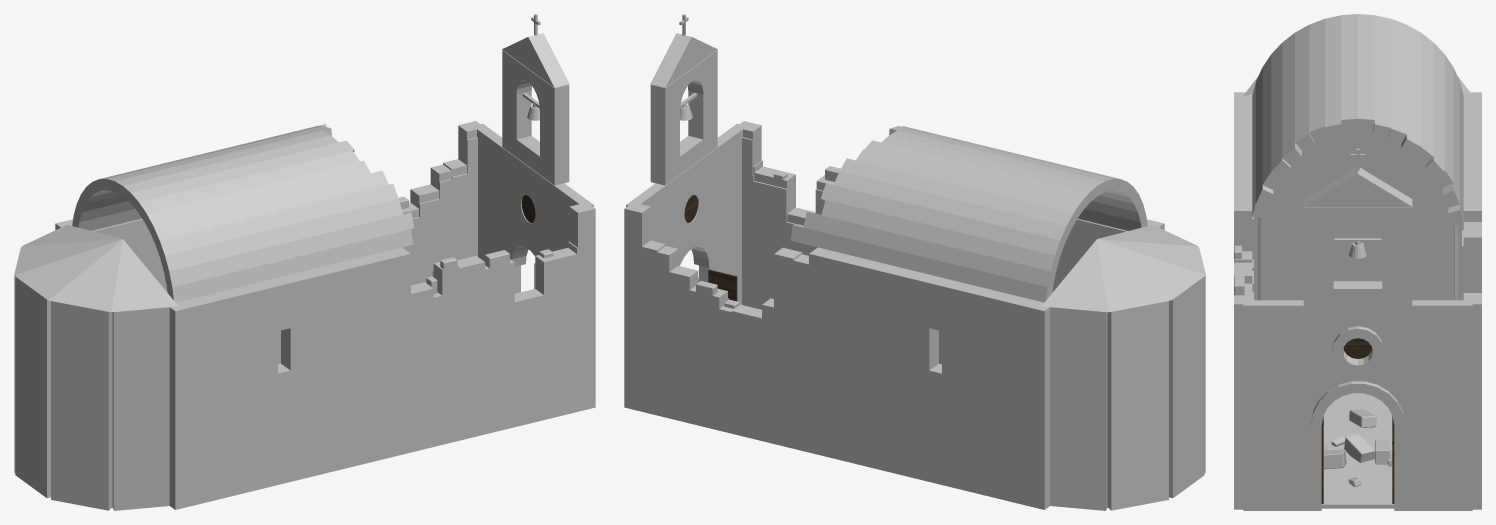
File: chapel.gltf
3 renders of one model, left to right at view 1: azimuth 30°, elevation 25°; view 2: azimuth 150°, elevation 25°; view 3: azimuth 270°, elevation 25°, orthographic. The views are drawn at different scales.
Parts seen in each view (by area): view 1: chapel_side_-1_A_wall2, chapel_side_-1_A_wall0, chapel_apse_wall3, chapel_apse_wall4, chapel_apse_cap, chapel_apse_wall2, chapel_espadana_body, chapel_side_-1_B_wall4, chapel_side_-1_B_wall3, chapel_east_wall2, chapel_side_-1_C_wall0, chapel_side_-1_B_wall5 (+29 smaller); view 2: chapel_side_1_A_wall2, chapel_side_1_A_wall0, chapel_apse_wall1, chapel_apse_wall0, chapel_apse_cap, chapel_apse_wall2, chapel_espadana_body, chapel_east_wall0, chapel_side_1_B_wall5, chapel_side_1_B_wall3, chapel_side_1_C_wall0, chapel_side_1_B_wall1 (+30 smaller); view 3: chapel_east_wall2, chapel_east_wall0, chapel_liner_hi_apse_wall0, chapel_espadana_body, chapel_liner_lo_apse_wall0, chapel_floor, chapel_east_head1, chapel_espadana_gable, chapel_side_1_C_wall0, chapel_side_-1_C_wall0, chapel_side_-1_A_wall2, chapel_vault_wedge8 (+43 smaller).
Part boxes in pixels (box(x1,y1,x2,y2)): chapel_side_-1_A_wall2: box(282, 247, 410, 481); chapel_side_-1_A_wall0: box(169, 280, 277, 509); chapel_apse_wall3: box(51, 301, 112, 510); chapel_apse_wall4: box(112, 307, 169, 510); chapel_apse_cap: box(14, 225, 178, 312); chapel_apse_wall2: box(15, 276, 50, 498); chapel_espadana_body: box(502, 50, 569, 185); chapel_side_-1_B_wall4: box(485, 259, 514, 434); chapel_side_-1_B_wall3: box(457, 255, 485, 440); chapel_east_wall2: box(473, 123, 520, 293); chapel_side_-1_C_wall0: box(569, 202, 595, 411); chapel_side_-1_B_wall5: box(514, 289, 543, 426); chapel_side_1_A_wall2: box(809, 247, 937, 481); chapel_side_1_A_wall0: box(942, 280, 1050, 509); chapel_apse_wall1: box(1107, 301, 1168, 510); chapel_apse_wall0: box(1050, 307, 1107, 510); chapel_apse_cap: box(1041, 225, 1205, 312); chapel_apse_wall2: box(1169, 276, 1204, 498); chapel_espadana_body: box(650, 50, 717, 185); chapel_east_wall0: box(699, 123, 746, 304); chapel_side_1_B_wall5: box(689, 286, 727, 430); chapel_side_1_B_wall3: box(731, 304, 761, 440); chapel_side_1_C_wall0: box(624, 204, 650, 411); chapel_side_1_B_wall1: box(774, 247, 802, 448); chapel_east_wall2: box(1394, 300, 1472, 510); chapel_east_wall0: box(1243, 300, 1321, 510); chapel_liner_hi_apse_wall0: box(1254, 129, 1461, 247); chapel_espadana_body: box(1303, 206, 1412, 307); chapel_liner_lo_apse_wall0: box(1254, 247, 1461, 300); chapel_floor: box(1321, 393, 1394, 508); chapel_east_head1: box(1321, 308, 1394, 396); chapel_espadana_gable: box(1303, 167, 1412, 206); chapel_side_1_C_wall0: box(1463, 295, 1481, 509); chapel_side_-1_C_wall0: box(1234, 295, 1252, 509); chapel_side_-1_A_wall2: box(1234, 150, 1252, 251); chapel_vault_wedge8: box(1341, 14, 1357, 117).
Size of the model in its own units: 20.23 by 13.28 by 8.2.
